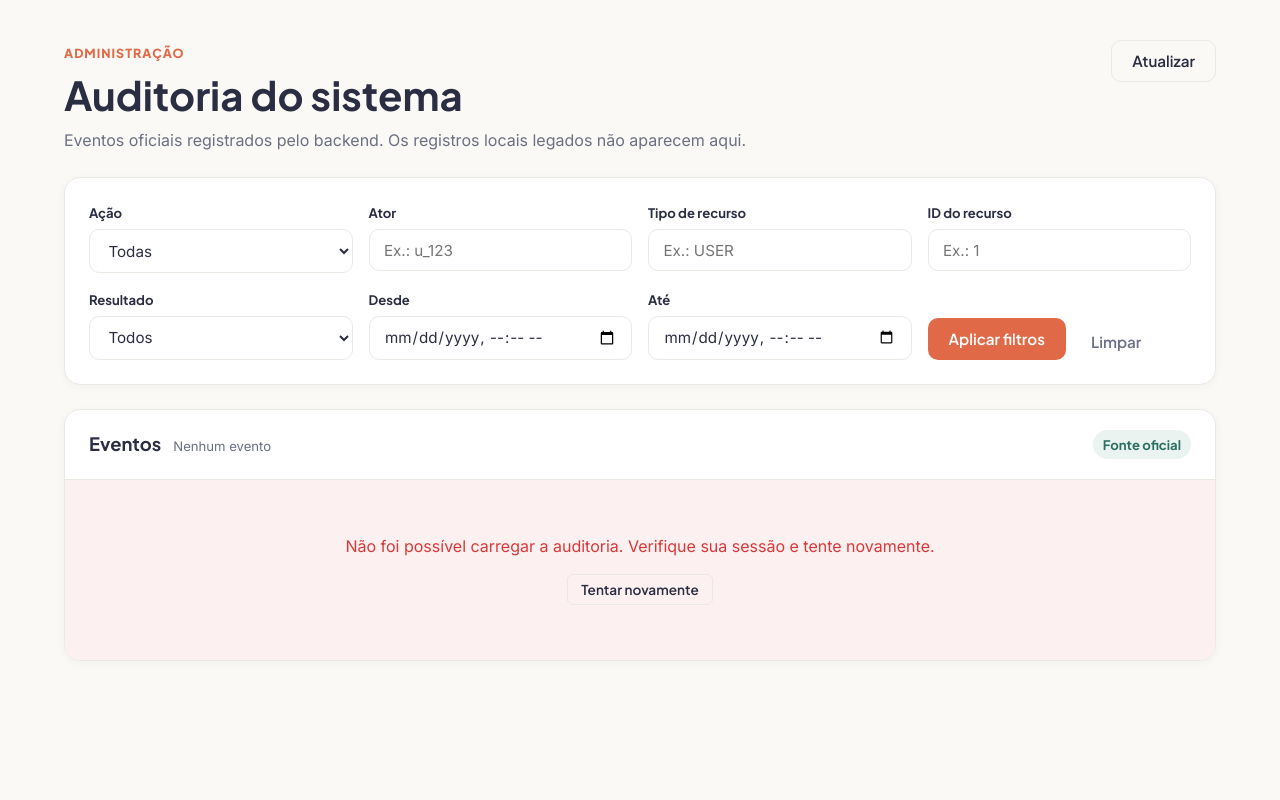
AuditLogs page › shows retryable error and empty states
expect the message shows "Não foi possível carregar a auditoria": met, box [345, 536, 934, 556]
What coordinates should you click on to do the following:
click the button "Tentar novamente"
I would click on:
 (640, 590)
Its box is [568, 574, 712, 606].
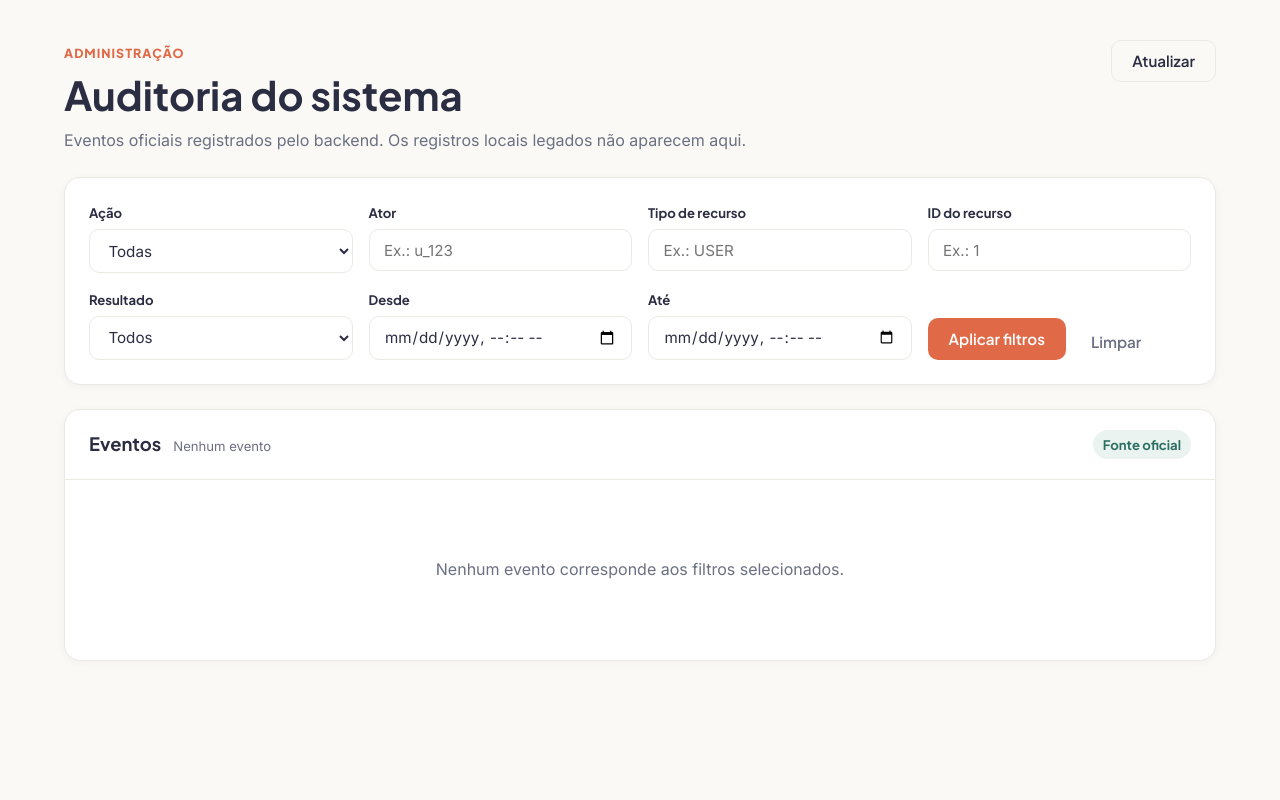
expect the text "Nenhum evento corresponde aos filtros selecionados." is shown: met, box [436, 557, 844, 583]
